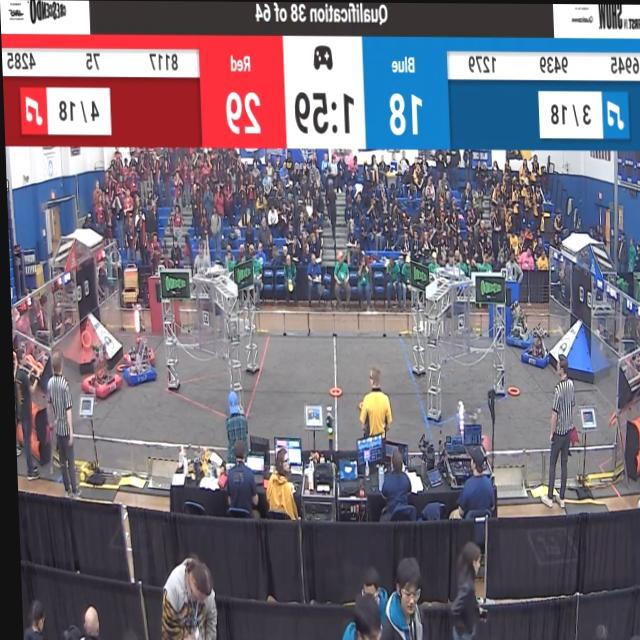Robot: (75, 320, 120, 401), (441, 389, 488, 458), (118, 314, 155, 388), (116, 291, 153, 365), (519, 310, 551, 370), (503, 298, 530, 348)
